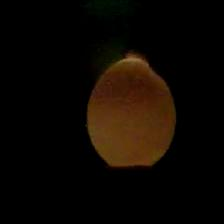infertile: (82, 52, 180, 170)
